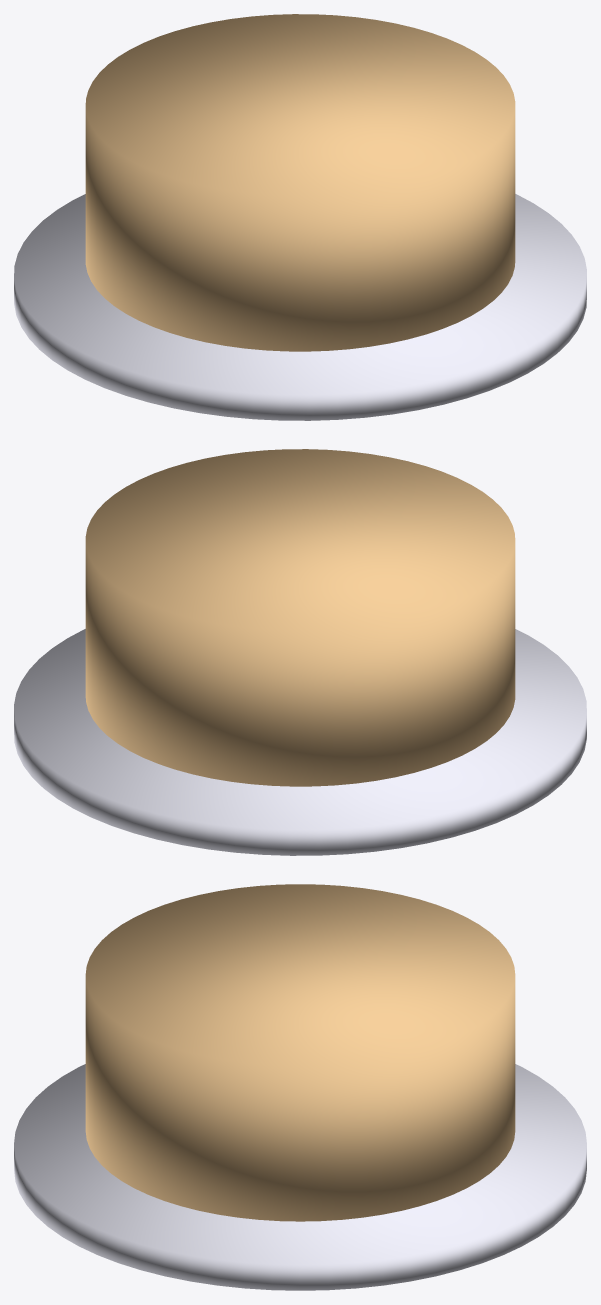
Rendered from round_shape.glb.
3 views of the same model, one above another, from view 1: azimuth 30°, elevation 25°; view 2: azimuth 150°, elevation 25°; view 3: azimuth 270°, elevation 25° (orthographic).
Parts seen in each view (by area): view 1: CakeBase, IcingStand; view 2: CakeBase, IcingStand; view 3: CakeBase, IcingStand.
Part boxes in pixels (bbox=[...]): CakeBase: bbox=[85, 14, 515, 351]; IcingStand: bbox=[14, 194, 586, 420]; CakeBase: bbox=[85, 449, 515, 786]; IcingStand: bbox=[14, 629, 586, 855]; CakeBase: bbox=[85, 884, 515, 1221]; IcingStand: bbox=[14, 1064, 586, 1290].
Size of the model in its own units: 4 by 1.5 by 4.
